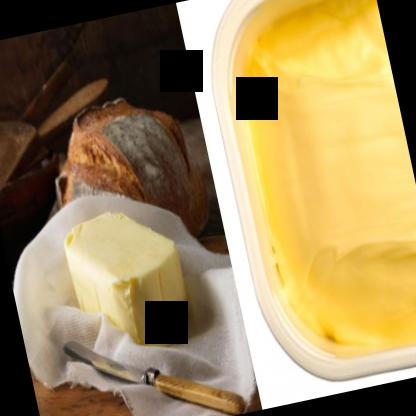butter: (222, 0, 415, 378), (62, 204, 196, 362)
